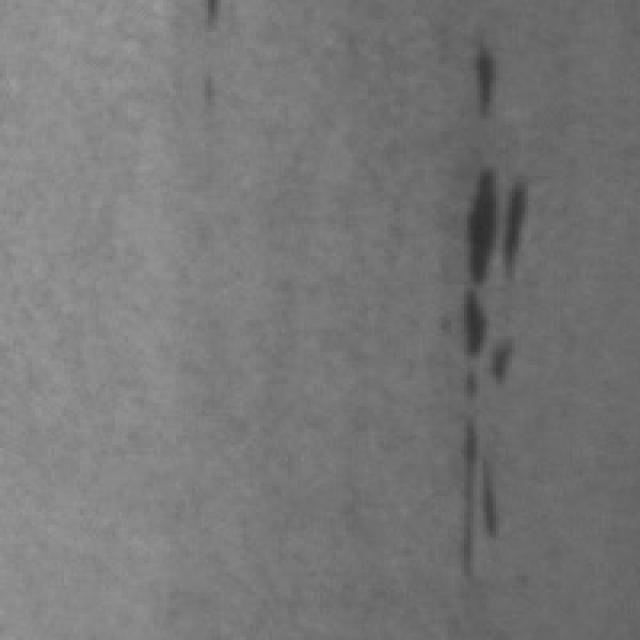inclusion: (448, 282, 528, 592), (445, 153, 534, 284), (454, 32, 502, 122)
